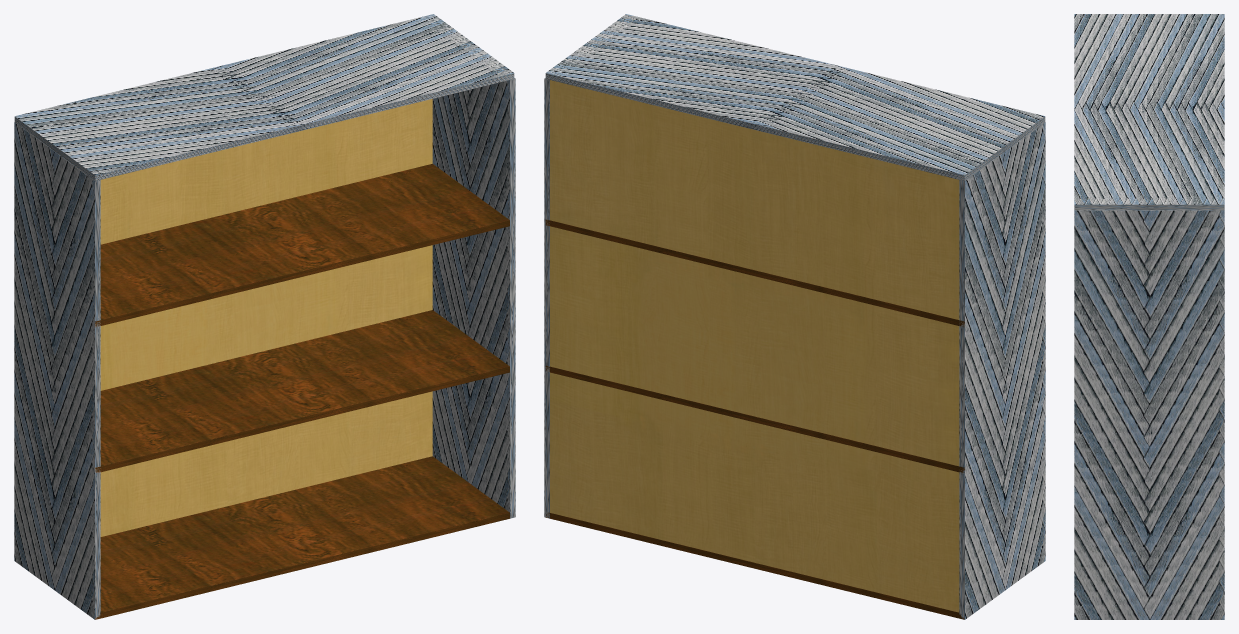
File: Stack.FBX
3 renders of one model, left to right at view 1: azimuth 30°, elevation 25°; view 2: azimuth 150°, elevation 25°; view 3: azimuth 270°, elevation 25°, orthographic. The views are drawn at different scales.
Visible parts, largest first — view 1: Box005, Box006, Box004, Box002, Box003, Box001, Box007; view 2: Box005, Box006, Box004, Box003, Box002, Box001, Box007; view 3: Box007, Box004.
Boxes of the visible parts, x1,y1,x2,y2 form: Box005: (100, 99, 432, 536); Box006: (14, 122, 100, 619); Box004: (14, 14, 514, 180); Box002: (95, 310, 509, 472); Box003: (95, 163, 509, 327); Box001: (95, 456, 509, 619); Box007: (432, 78, 515, 518); Box005: (550, 80, 959, 612); Box006: (959, 122, 1045, 619); Box004: (545, 14, 1045, 180); Box003: (545, 219, 964, 326); Box002: (545, 365, 964, 472); Box001: (546, 513, 963, 619); Box007: (544, 78, 549, 518); Box007: (1074, 210, 1224, 619); Box004: (1074, 14, 1224, 210).
Bounding box in the file's own units: 15.05 × 15.2 × 5.
3 materials, 3 textured.
